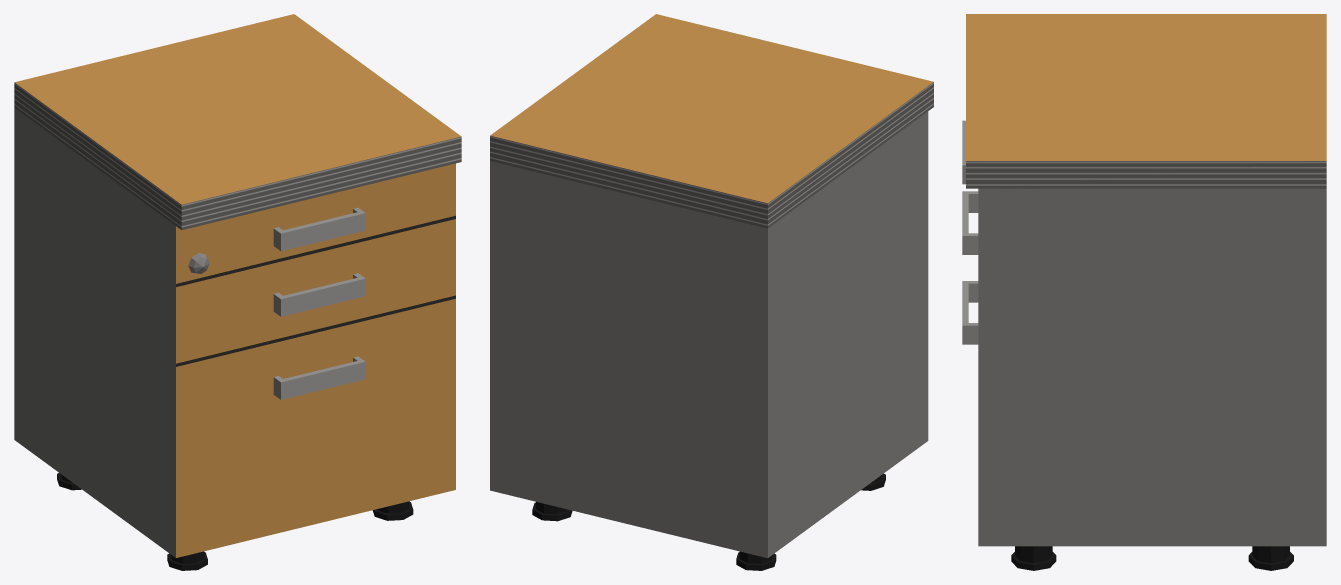
Rendered from Drawer.fbx.
The picture shows the model from 3 angles, left to right: view 1: azimuth 30°, elevation 25°; view 2: azimuth 150°, elevation 25°; view 3: azimuth 270°, elevation 25°; orthographic projection. The views are drawn at different scales.
Parts seen in each view (by area): view 1: Drawer; view 2: Drawer; view 3: Drawer.
Part boxes in pixels (x1=…): Drawer: x1=14, y1=14, x2=461, y2=570; Drawer: x1=490, y1=14, x2=933, y2=570; Drawer: x1=962, y1=14, x2=1326, y2=570.
Bounding box in the file's own units: 0.8 × 1.06 × 0.8369.
1 material, 1 textured.
